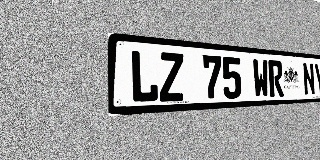5: (222, 57, 242, 99)
7: (201, 55, 223, 100)
L: (130, 50, 159, 103)
N: (302, 62, 315, 96)
R: (268, 60, 284, 97)
W: (252, 59, 269, 98)
Y: (314, 63, 320, 95)
Z: (159, 52, 185, 102)
